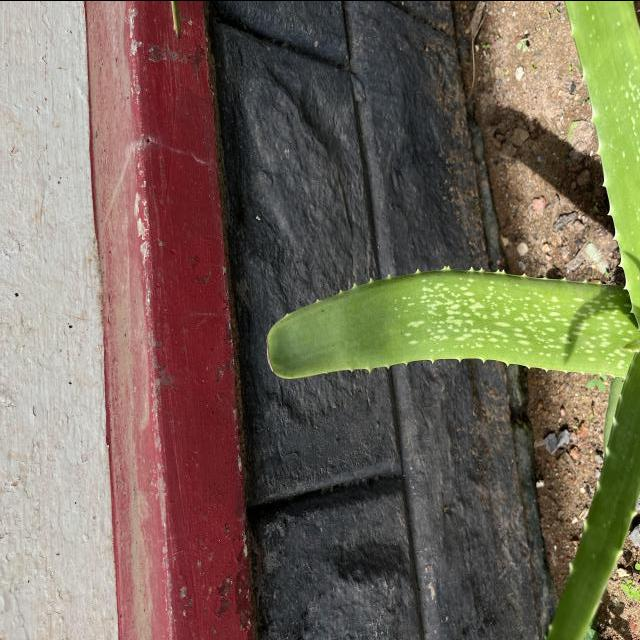Aloe vera: (257, 261, 640, 387)
